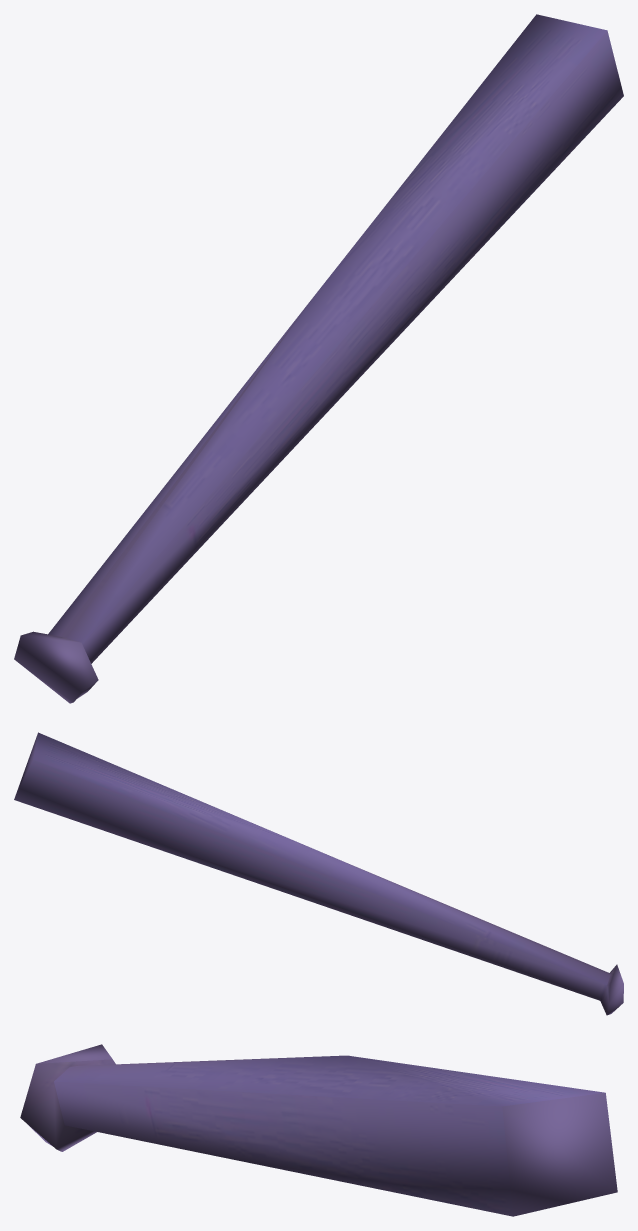
The model's file is model.progressive.glb.
The picture shows the model from 3 angles, top to bottom: view 1: azimuth 30°, elevation 25°; view 2: azimuth 150°, elevation 25°; view 3: azimuth 270°, elevation 25°; orthographic projection. The views are drawn at different scales.
Visible parts, largest first — view 1: texture_pbr_20250901; view 2: texture_pbr_20250901; view 3: texture_pbr_20250901.
Part boxes in pixels (x1,y1,x2,y2): texture_pbr_20250901: [14, 14, 623, 703]; texture_pbr_20250901: [14, 732, 623, 1015]; texture_pbr_20250901: [20, 1044, 617, 1216].
Bounding box in the file's own units: 1.88 × 0.8925 × 0.9707.
1 material, 1 textured.
